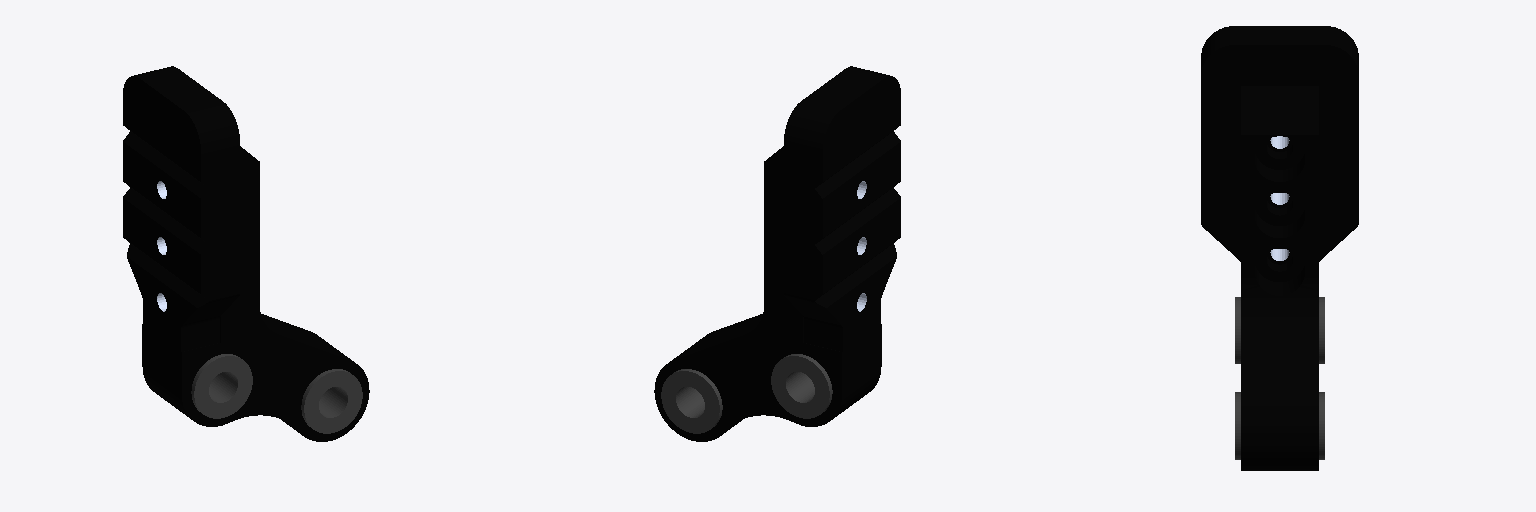
File: robotiq_85_gripper_joint_3_L.obj
3 renders of one model, left to right at view 1: azimuth 30°, elevation 25°; view 2: azimuth 150°, elevation 25°; view 3: azimuth 270°, elevation 25°, orthographic.
Parts seen in each view (by area): view 1: Actor1_ActorShape1_0-Mesh.001, Actor0_ActorShape0_0-Mesh.009; view 2: Actor1_ActorShape1_0-Mesh.001, Actor0_ActorShape0_0-Mesh.009; view 3: Actor0_ActorShape0_0-Mesh.009, Actor1_ActorShape1_0-Mesh.001.
Part boxes in pixels (x1,y1,x2,y2): Actor1_ActorShape1_0-Mesh.001: (123, 66, 239, 351); Actor0_ActorShape0_0-Mesh.009: (142, 146, 369, 441); Actor1_ActorShape1_0-Mesh.001: (784, 66, 900, 351); Actor0_ActorShape0_0-Mesh.009: (654, 146, 881, 441); Actor0_ActorShape0_0-Mesh.009: (1235, 86, 1324, 470); Actor1_ActorShape1_0-Mesh.001: (1201, 26, 1358, 264).
Size of the model in its own units: 0.0306 by 0.0573 by 0.0222.